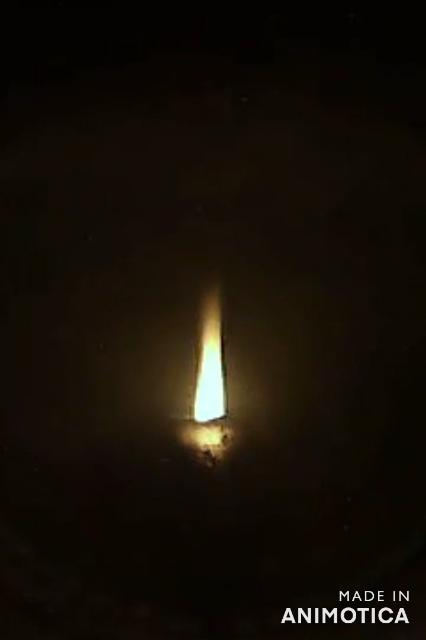burner flame: (188, 284, 230, 426)
